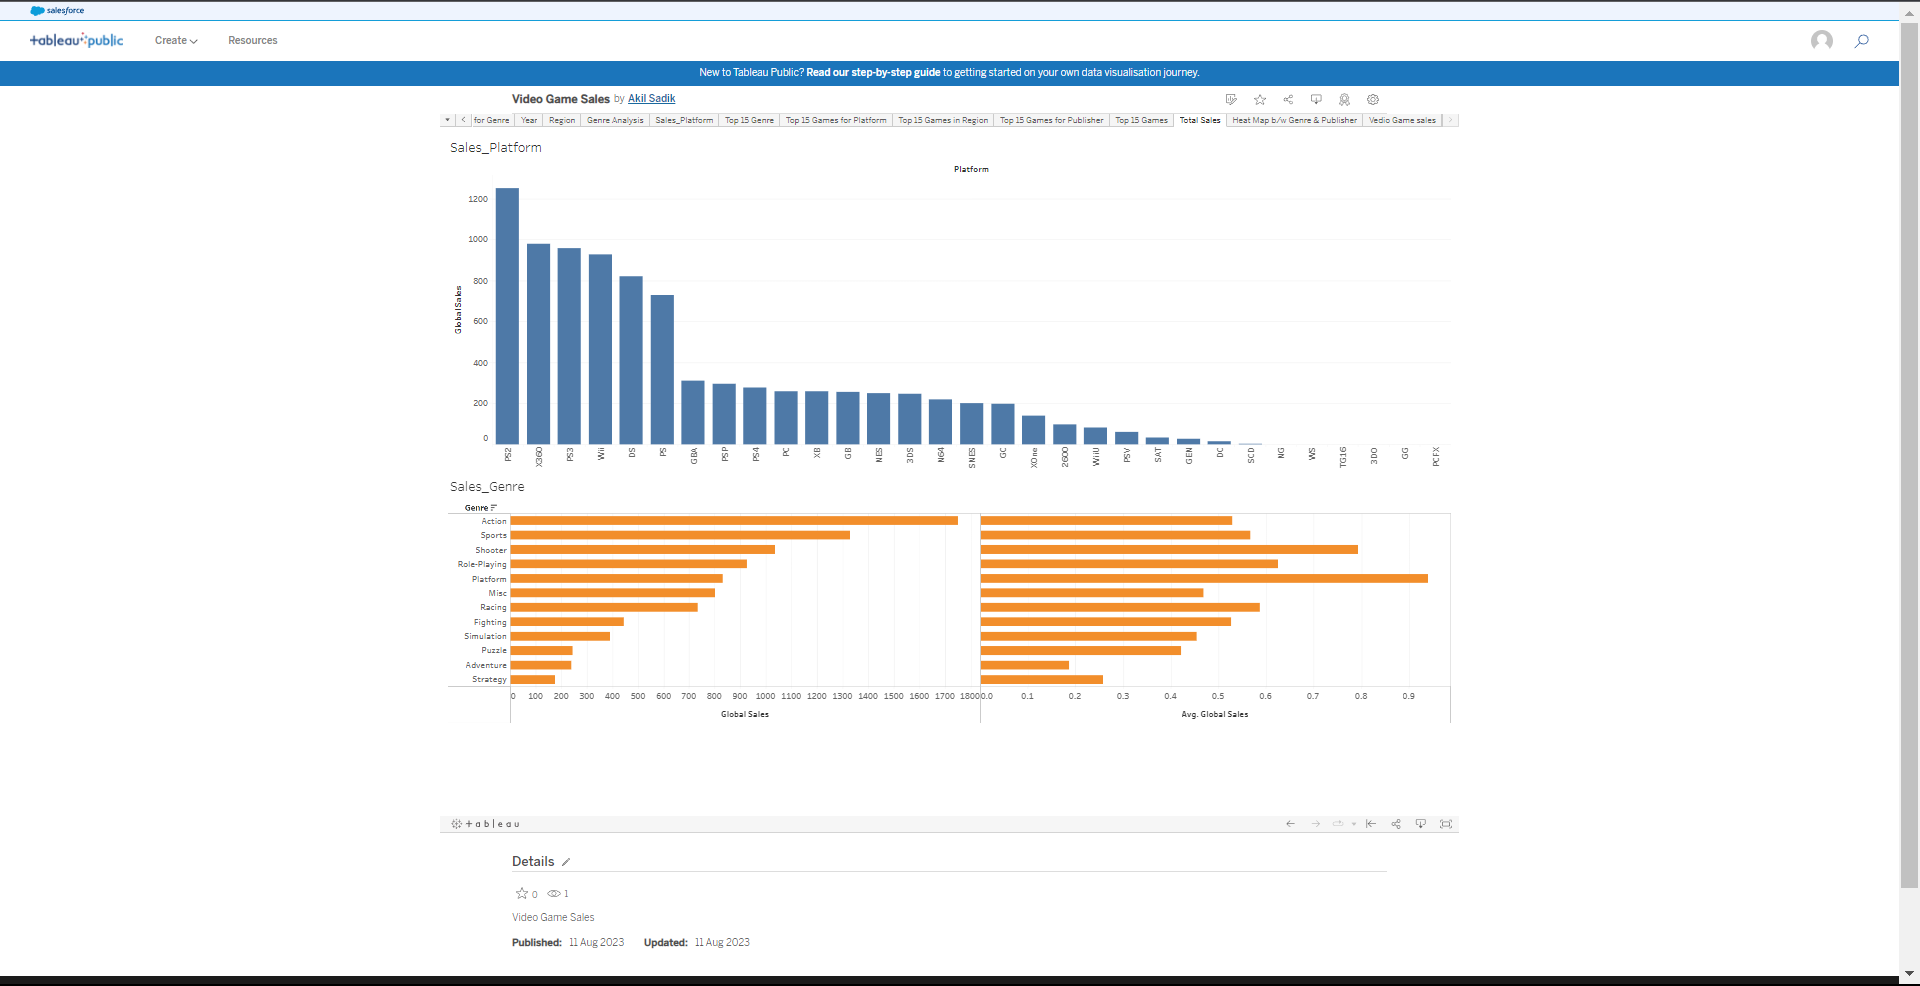

The page's visual inventory and layout, read from the dashboard file:
{"tool":"tableau","page":{"name":"Total Sales","canvas":[1630,1100],"ordinal":2},"visuals":[{"type":"worksheet","title":"Sales_Platform","mark":"Bar","rows":["Global_Sales"],"cols":["Platform"],"box":[8,8,1614,542]},{"type":"worksheet","title":"Sales_Genre","mark":"Automatic","rows":["Genre"],"cols":["Global_Sales","Global_Sales"],"box":[8,550,1614,542]}]}

Visuals, with their boxes in screenshot pixels (x1, y1, x2, y2):
"Sales_Platform" worksheet (Bar marks): [left=522, top=52, right=1897, bottom=513]
"Sales_Genre" worksheet: [left=522, top=513, right=1897, bottom=975]
